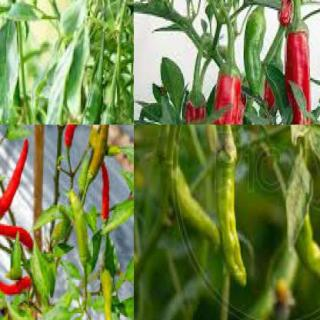green_chilli: (214, 147, 254, 287), (167, 163, 222, 259), (50, 78, 105, 124), (243, 9, 266, 100), (68, 192, 94, 266), (292, 217, 319, 284), (102, 261, 120, 319)
